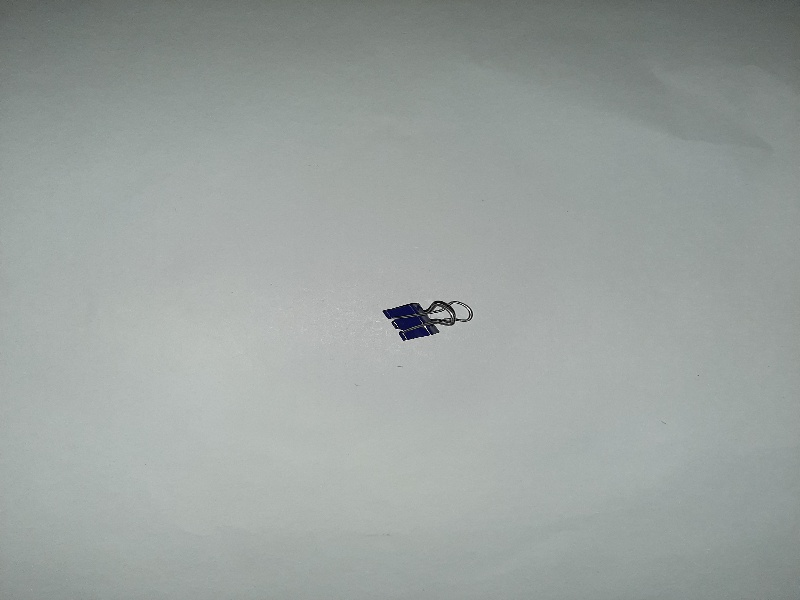Small Paperclip: (379, 289, 478, 353)
